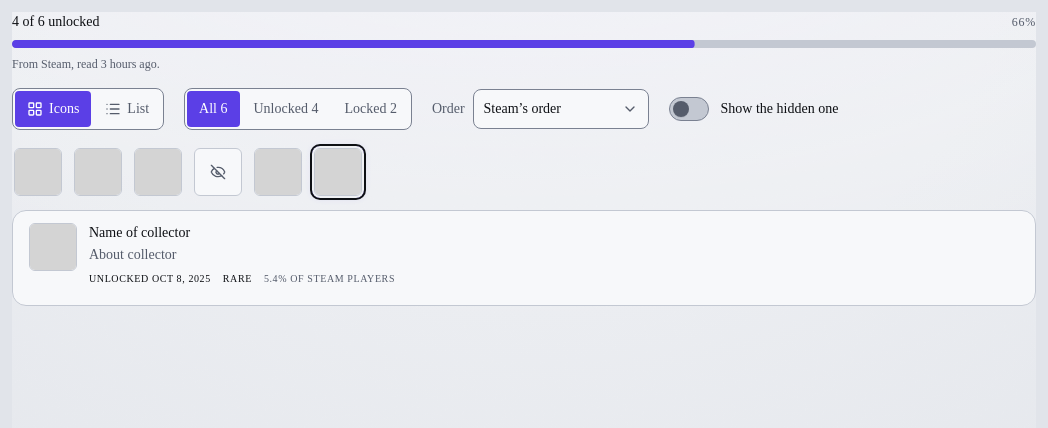
Test: Achievements › says in words whether each is unlocked and when, and how rare Steam says it is
Expected: the text "4 of 6 unlocked" is shown, [12,12,100,32]
What coordinates should you click on to do the following:
click the radio button labelled "List"
I would click on:
 (127, 109)
Its box is [93,91,161,127].
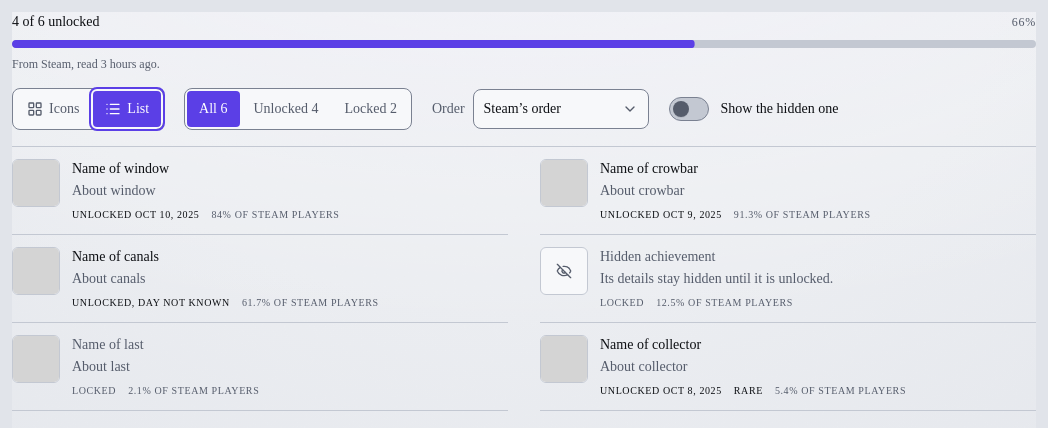
Expected: the text "Name of window" is shown, [72,161,169,176]
Expected: the text "Unlocked Oct 10, 2025" is shown, [72,207,199,222]
Expected: the text "84% of Steam players" is shown, [211,207,339,222]
